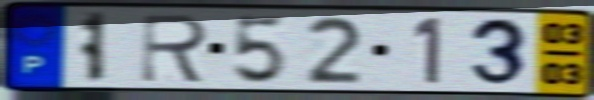1: (76, 9, 111, 86), (409, 15, 446, 87)
2: (304, 14, 367, 86)
3: (468, 14, 532, 90)
5: (230, 13, 291, 86)
R: (137, 12, 213, 85)
